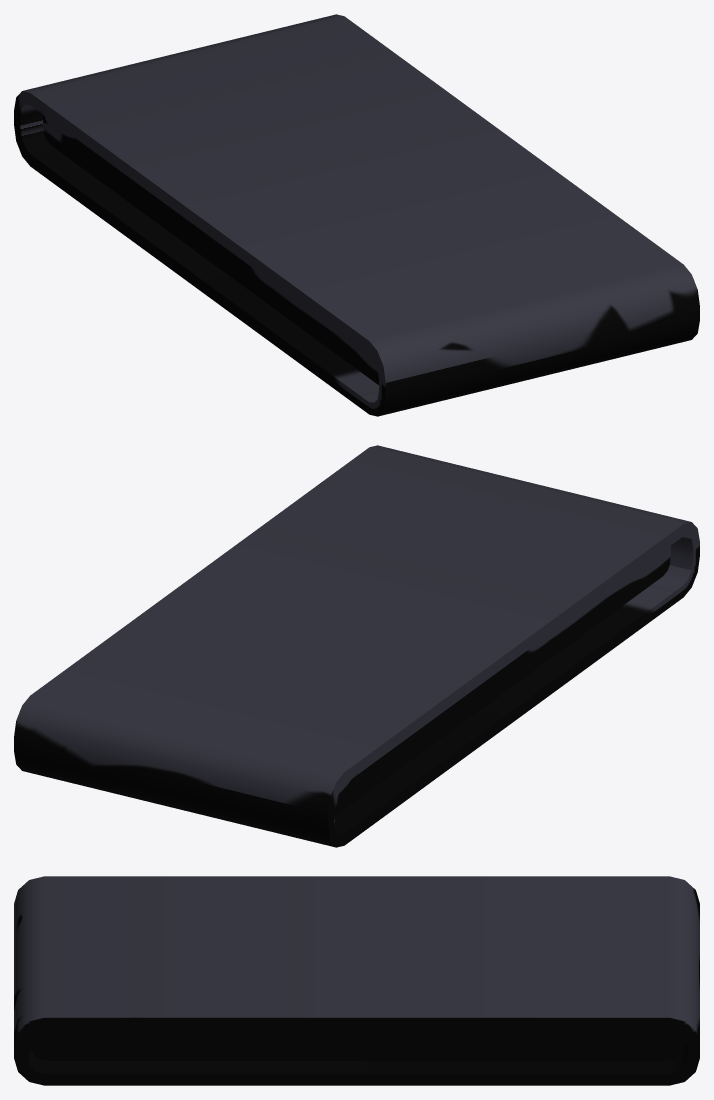
The model's file is BeltModel.glb.
3 renders of one model, top to bottom at view 1: azimuth 30°, elevation 25°; view 2: azimuth 150°, elevation 25°; view 3: azimuth 270°, elevation 25°, orthographic. The views are drawn at different scales.
Visible parts, largest first — view 1: BeltModel.001; view 2: BeltModel.001; view 3: BeltModel.001.
Part boxes in pixels (x1=…): BeltModel.001: x1=14, y1=14, x2=699, y2=416; BeltModel.001: x1=14, y1=445, x2=699, y2=847; BeltModel.001: x1=14, y1=876, x2=699, y2=1085.
Size of the model in its own units: 0.976 by 0.2182 by 2.
Materials: 1 (1 with a texture image).
